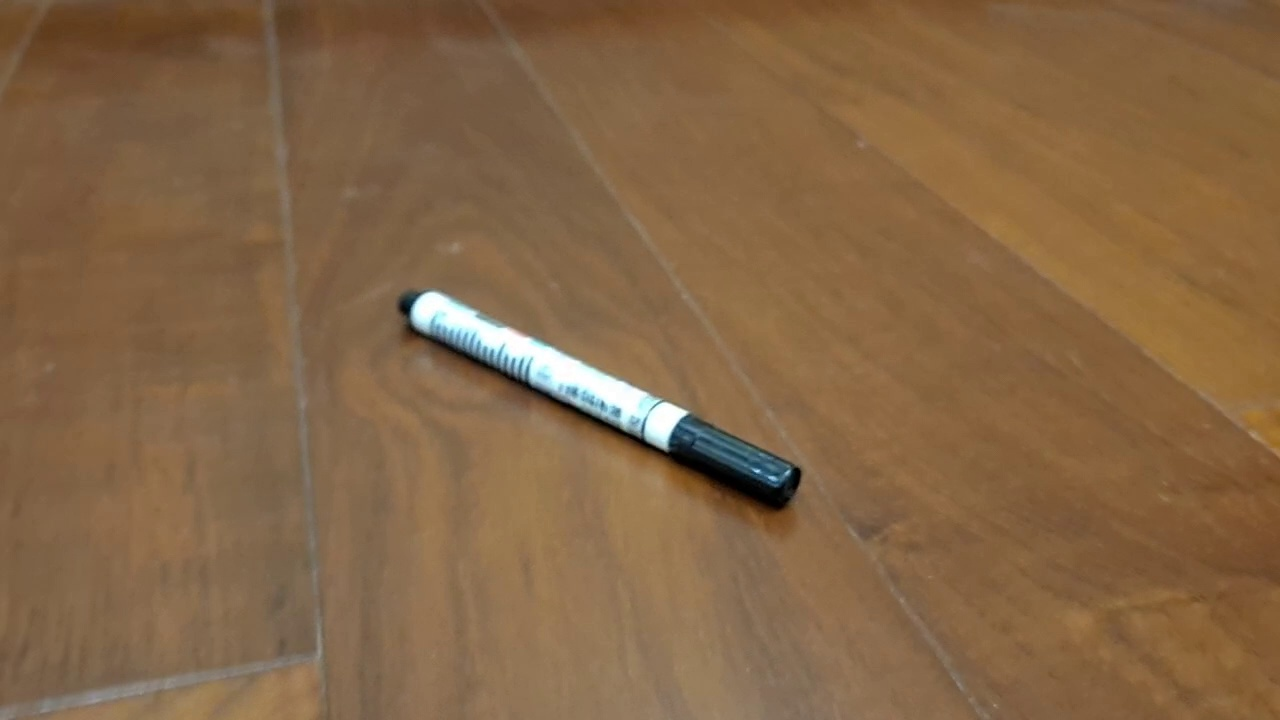pen: (396, 287, 803, 511)
